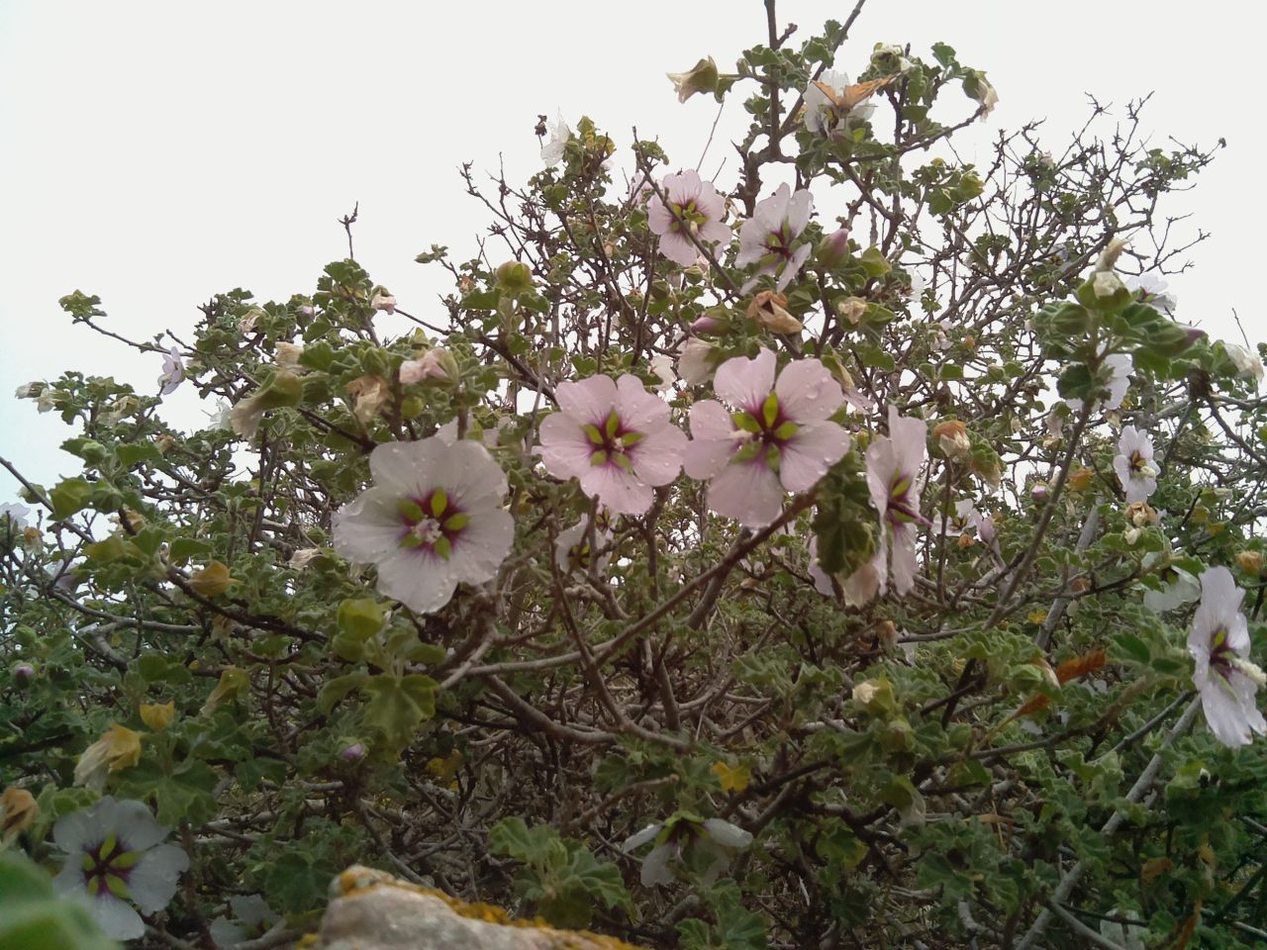Vanessa cardui: (760, 41, 918, 136)
